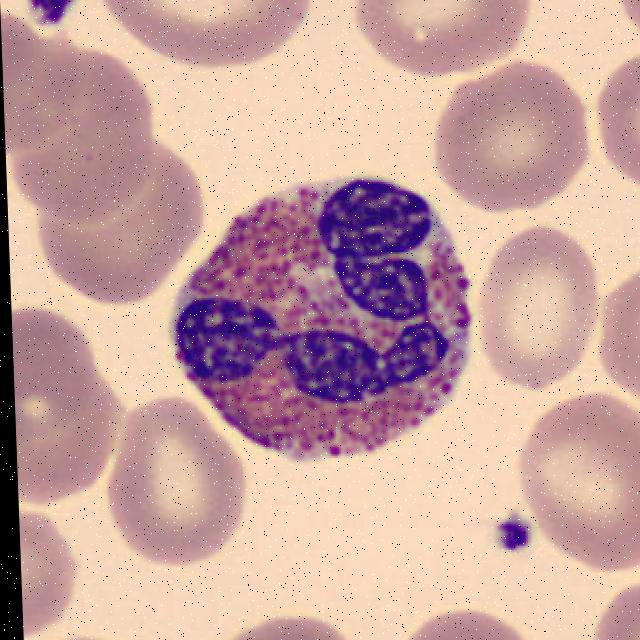eosinophil: (166, 160, 495, 456)
platelets: (9, 0, 83, 33)
rbc: (17, 127, 203, 301), (9, 44, 161, 221), (106, 395, 260, 567), (433, 66, 585, 212), (474, 222, 601, 394), (517, 394, 640, 568), (14, 368, 121, 504), (343, 0, 542, 72), (102, 0, 323, 64), (0, 11, 88, 155), (11, 296, 96, 436), (19, 500, 81, 640), (592, 49, 640, 188), (396, 603, 545, 640), (603, 261, 640, 399), (216, 607, 358, 640), (589, 574, 640, 640)
